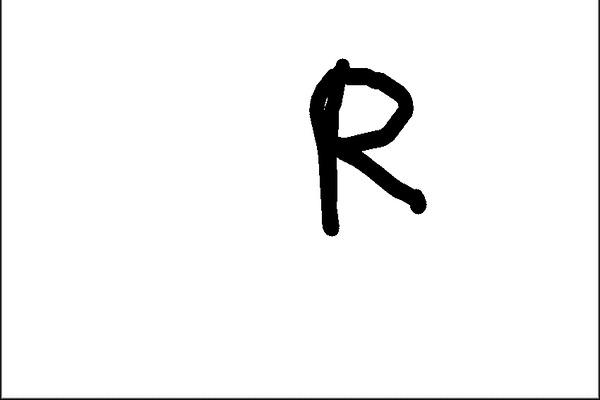R: (295, 50, 438, 240)
